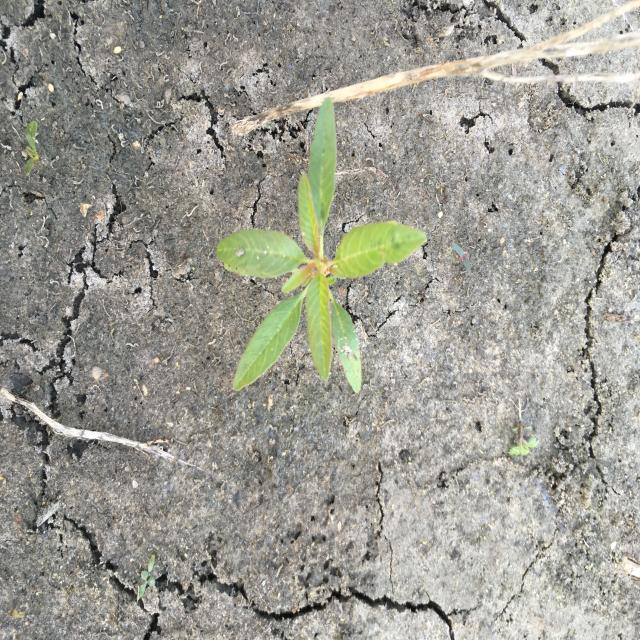Waterhemp: (214, 96, 428, 394)
